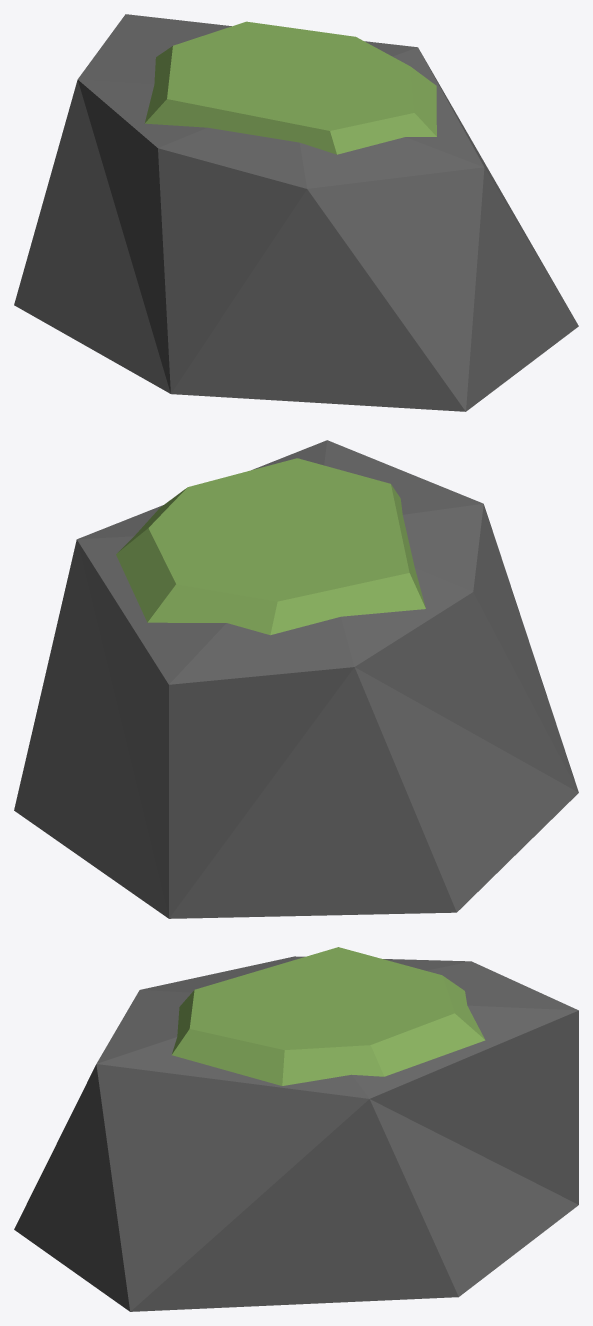
File: Rock_Small_Moss_03.fbx
3 views of the same model, one above another, from view 1: azimuth 30°, elevation 25°; view 2: azimuth 150°, elevation 25°; view 3: azimuth 270°, elevation 25° (orthographic). The views are drawn at different scales.
Parts seen in each view (by area): view 1: Rock_Small_Moss_03; view 2: Rock_Small_Moss_03; view 3: Rock_Small_Moss_03.
Part boxes in pixels (x1,y1,x2,y2): Rock_Small_Moss_03: (14, 14, 578, 411); Rock_Small_Moss_03: (14, 440, 578, 918); Rock_Small_Moss_03: (14, 947, 578, 1311).
Size of the model in its own units: 533 by 355 by 663.
